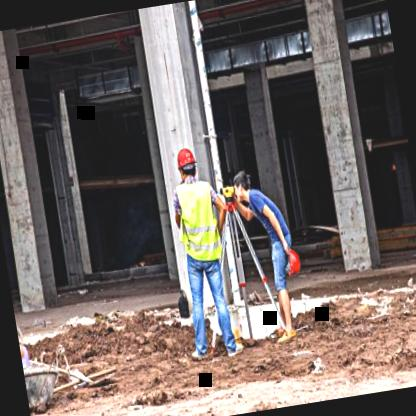helmet: (172, 144, 200, 183)
